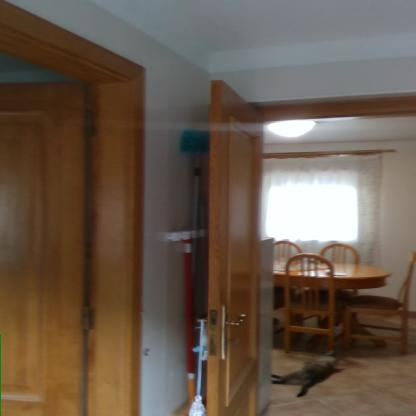open: (199, 77, 416, 399)
semi: (0, 46, 155, 410)
